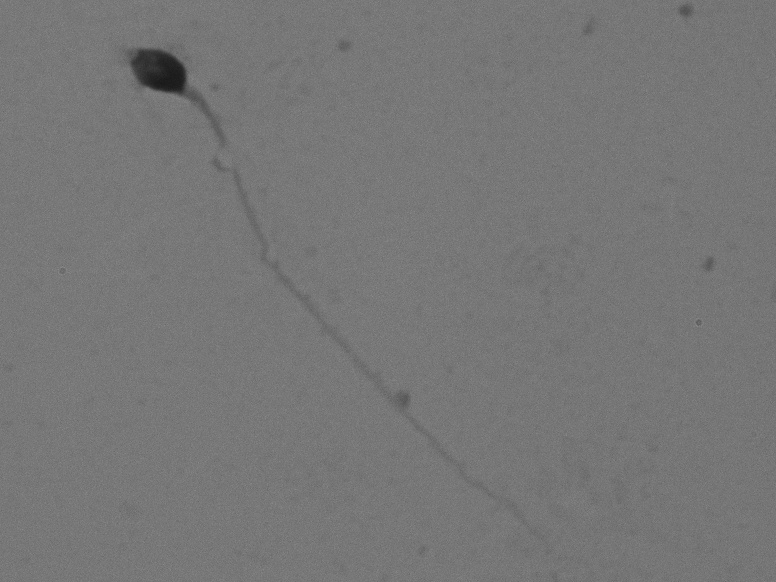Abnormal: (88, 31, 641, 567)
